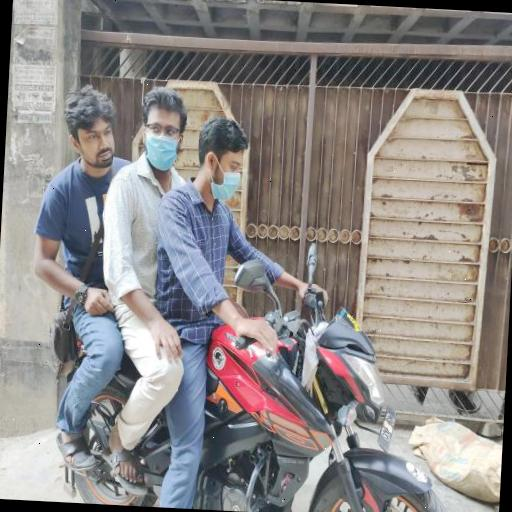no helmet: (189, 96, 260, 196)
triple riding: (16, 62, 512, 512)
